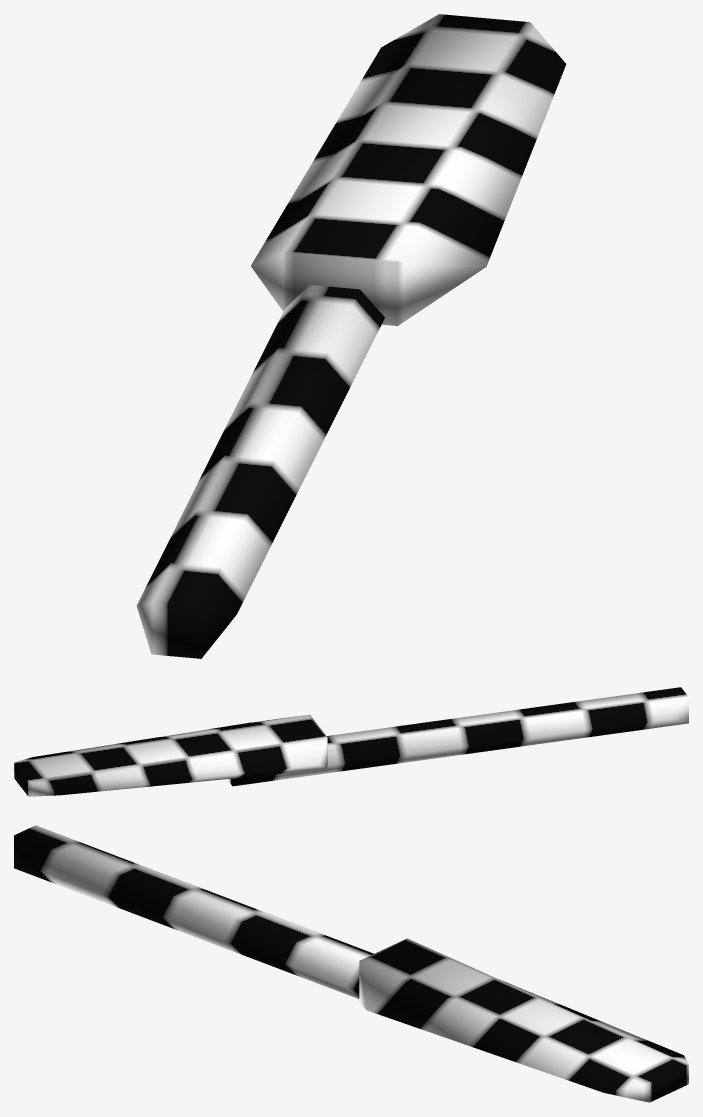
File: initqi34.dae
3 views of the same model, one above another, from view 1: azimuth 30°, elevation 25°; view 2: azimuth 150°, elevation 25°; view 3: azimuth 270°, elevation 25° (orthographic). The views are drawn at different scales.
Parts seen in each view (by area): view 1: item; view 2: item; view 3: item.
Part boxes in pixels (left/top/right/bottom): item: left=136, top=14, right=566, bottom=658; item: left=14, top=687, right=688, bottom=796; item: left=14, top=825, right=688, bottom=1102.
Bounding box in the file's own units: 1.25 × 1.33 × 0.1137.
Materials: 1 (1 with a texture image).
